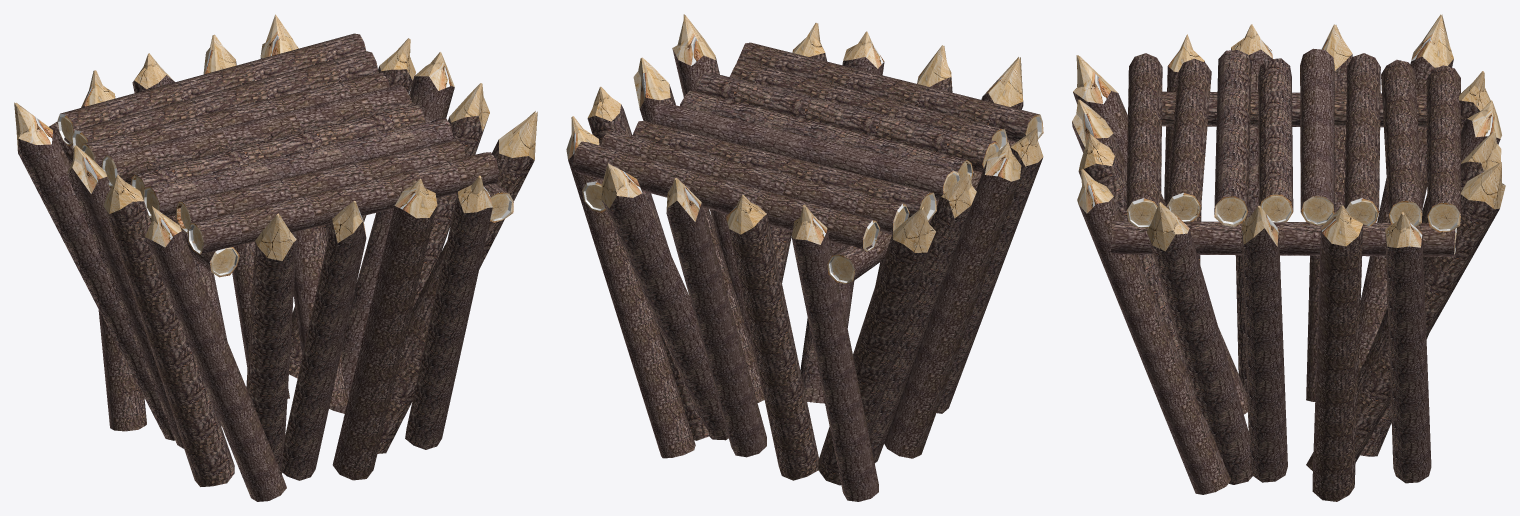
Rendered from turret(1).FBX.
3 renders of one model, left to right at view 1: azimuth 30°, elevation 25°; view 2: azimuth 150°, elevation 25°; view 3: azimuth 270°, elevation 25°, orthographic. The views are drawn at different scales.
Visible parts, largest first — view 1: Cylinder086, Cylinder075, Cylinder077, Cylinder087, Cylinder088, Cylinder089, Cylinder078, Cylinder085, Cylinder094, Cylinder092, Cylinder084, Cylinder090 (+14 smaller); view 2: Cylinder075, Cylinder082, Cylinder083, Cylinder081, Cylinder080, Cylinder074, Cylinder078, Cylinder084, Cylinder094, Cylinder092, Cylinder089, Cylinder095 (+14 smaller); view 3: Cylinder073, Cylinder088, Cylinder068, Cylinder071, Cylinder074, Cylinder080, Cylinder054, Cylinder094, Cylinder092, Cylinder089, Cylinder093, Cylinder084 (+14 smaller).
Part boxes in pixels (<box>): Cylinder086: <box>332,178,437,480</box>; Cylinder075: <box>103,174,234,486</box>; Cylinder077: <box>145,206,286,501</box>; Cylinder087: <box>281,201,366,480</box>; Cylinder088: <box>405,175,492,449</box>; Cylinder089: <box>188,152,498,254</box>; Cylinder078: <box>14,102,174,440</box>; Cylinder085: <box>246,213,296,473</box>; Cylinder094: <box>101,84,411,188</box>; Cylinder092: <box>144,117,454,217</box>; Cylinder084: <box>57,33,366,146</box>; Cylinder090: <box>175,141,465,233</box>; Cylinder075: <box>884,142,1021,458</box>; Cylinder082: <box>726,194,818,480</box>; Cylinder083: <box>791,204,878,501</box>; Cylinder081: <box>666,178,766,457</box>; Cylinder080: <box>601,163,728,440</box>; Cylinder074: <box>566,116,695,458</box>; Cylinder078: <box>818,207,935,485</box>; Cylinder084: <box>572,141,880,251</box>; Cylinder094: <box>654,102,959,201</box>; Cylinder092: <box>696,72,999,172</box>; Cylinder089: <box>737,42,1043,142</box>; Cylinder095: <box>601,131,909,234</box>; Cylinder073: <box>1312,205,1363,501</box>; Cylinder088: <box>1077,169,1230,494</box>; Cylinder068: <box>1147,202,1252,484</box>; Cylinder071: <box>1241,205,1287,482</box>; Cylinder074: <box>1385,212,1431,483</box>; Cylinder080: <box>1306,162,1505,470</box>; Cylinder054: <box>1110,221,1456,256</box>; Cylinder094: <box>1300,48,1334,225</box>; Cylinder092: <box>1214,50,1251,226</box>; Cylinder089: <box>1126,53,1162,227</box>; Cylinder093: <box>1344,53,1380,226</box>; Cylinder084: <box>1426,65,1460,232</box>.
Size of the model in its own units: 12.47 by 10.39 by 11.85.
Materials: 2 (2 with a texture image).
